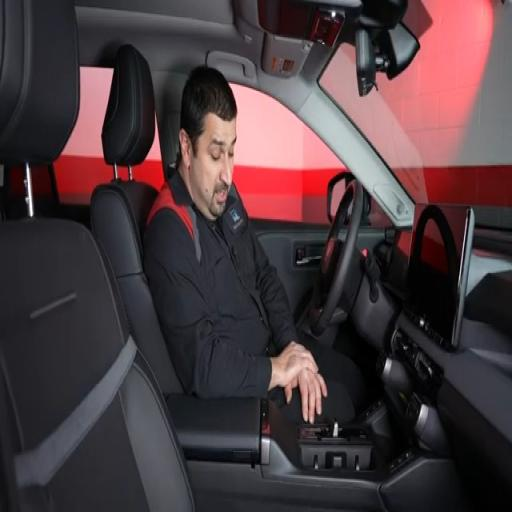emblem: (230, 210, 240, 223)
side_mirror: (327, 171, 354, 223), (327, 171, 353, 223)
window: (232, 84, 344, 224)
windshield: (320, 0, 511, 207)
